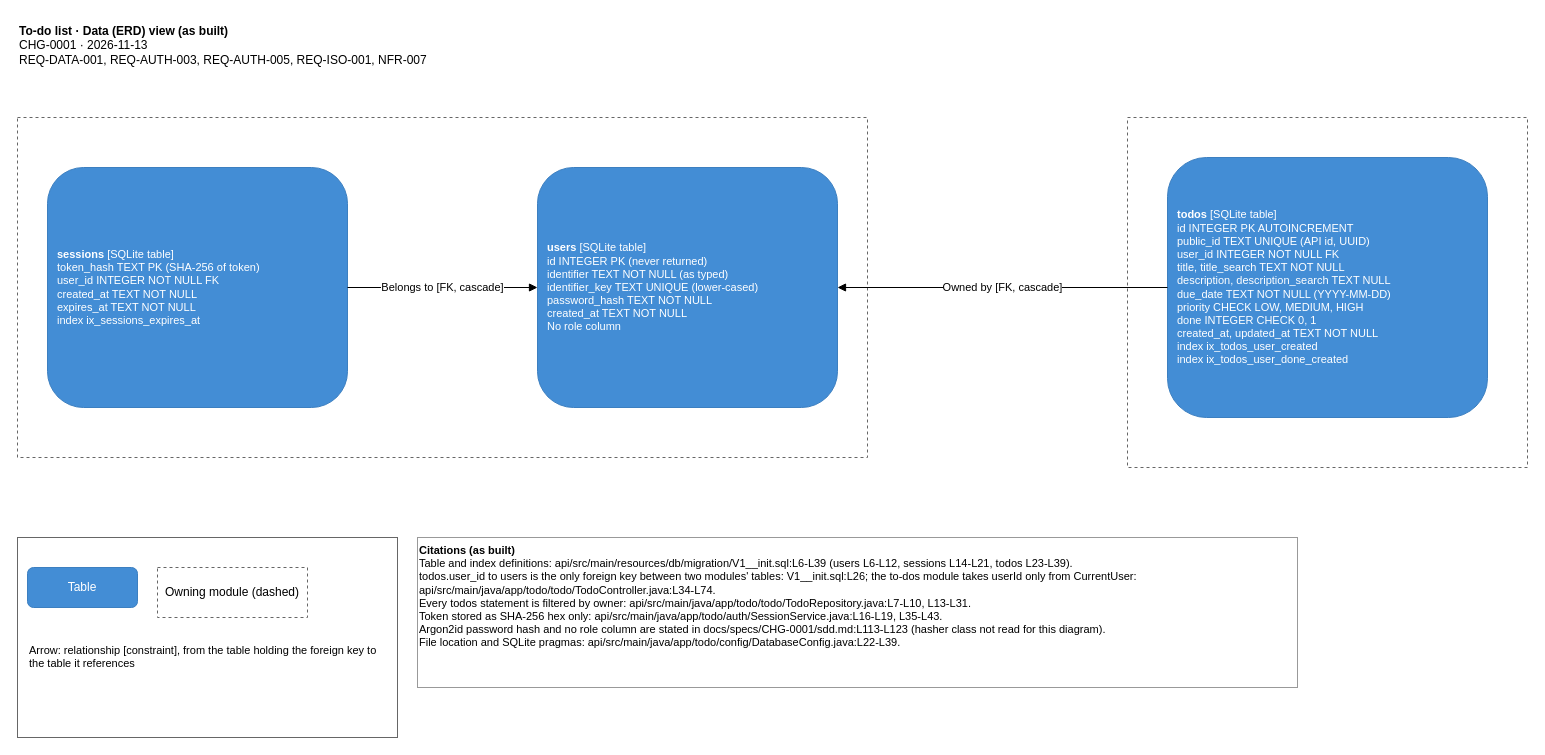
The diagram is 1545 pixels wide and 755 high, and some of its shapes have lost their labels. Each missing label, with the box of its shape:
Identity module owns users and sessions (app.todo.auth): (16, 116, 868, 458)
Legend: (16, 536, 398, 738)
To-dos module owns todos (app.todo.todo): (1126, 116, 1528, 468)
